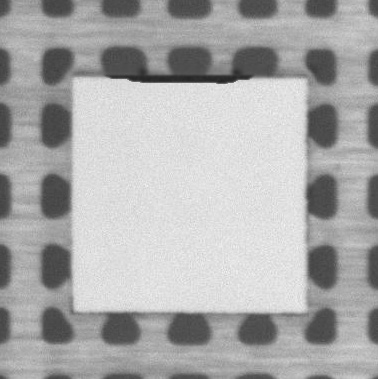DIE_BROKEN: (110, 70, 253, 89)
